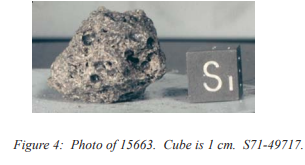Basalt: (49, 4, 168, 106)
